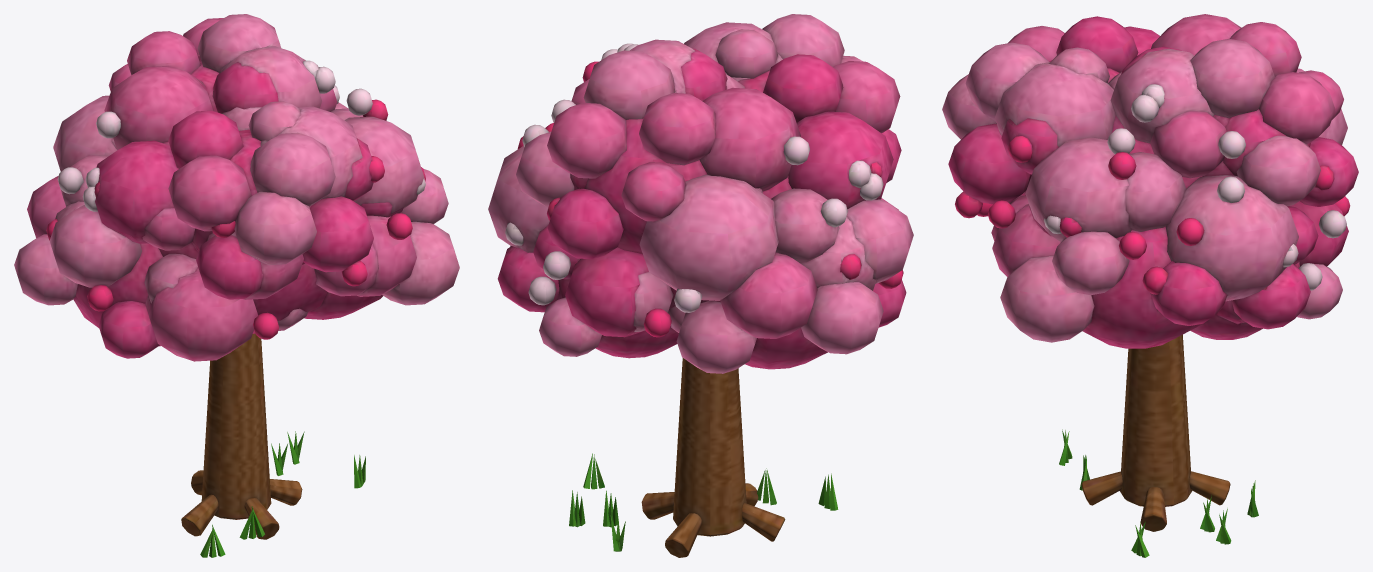
The model's file is sakura_tree.glb.
3 views of the same model, side by side, from view 1: azimuth 30°, elevation 25°; view 2: azimuth 150°, elevation 25°; view 3: azimuth 270°, elevation 25° (orthographic). The views are drawn at different scales.
Parts seen in each view (by area): view 1: crown, sakura_tree; view 2: crown, sakura_tree; view 3: crown, sakura_tree.
Boxes of the visible parts, <box> form: crown: <box>14,14,459,361</box>; sakura_tree: <box>181,333,365,557</box>; crown: <box>488,14,913,373</box>; sakura_tree: <box>569,358,838,557</box>; crown: <box>942,14,1358,348</box>; sakura_tree: <box>1059,334,1258,557</box>.
Size of the model in its own units: 1.1 by 1.31 by 1.03.
Materials: 1 (1 with a texture image).
